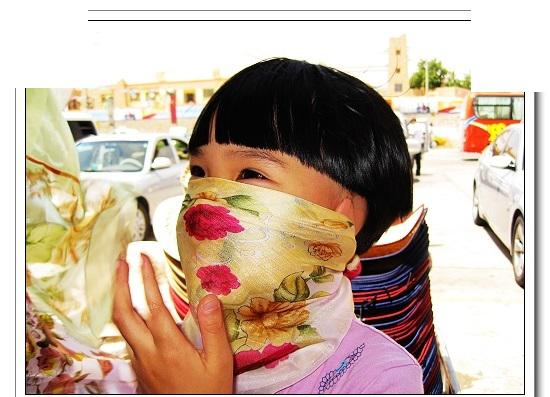OK: (179, 142, 331, 294)
